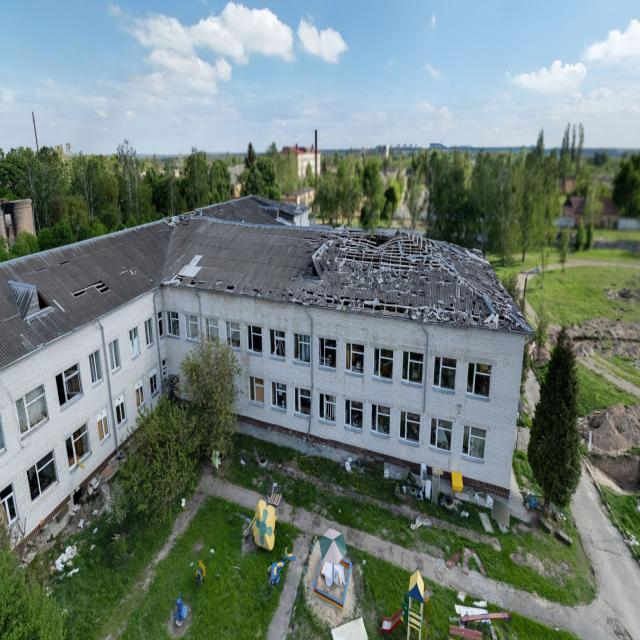broken_window: (26, 446, 60, 503), (65, 420, 95, 477), (56, 360, 82, 407), (0, 483, 20, 528), (467, 364, 492, 396), (462, 426, 486, 459), (434, 356, 456, 389), (431, 419, 453, 450), (399, 411, 420, 443), (403, 352, 424, 382), (89, 344, 105, 382), (373, 349, 393, 379), (371, 406, 391, 434), (346, 344, 365, 373), (344, 401, 363, 429), (319, 394, 336, 423), (319, 339, 336, 368), (269, 330, 286, 358), (294, 332, 309, 363), (271, 382, 287, 410), (295, 388, 310, 415), (247, 325, 262, 352), (97, 414, 110, 445), (250, 378, 265, 403), (134, 382, 145, 411), (115, 402, 127, 427), (149, 369, 159, 396), (168, 312, 179, 335), (158, 313, 163, 336), (163, 360, 167, 385)
building: (0, 190, 533, 579)
damage: (57, 285, 453, 492)
damaged_roof: (291, 228, 530, 331), (213, 204, 248, 292), (169, 251, 203, 288), (71, 277, 113, 301), (163, 210, 203, 230), (238, 284, 264, 296), (119, 264, 138, 278), (282, 268, 295, 286), (279, 286, 297, 297), (36, 264, 49, 274), (59, 259, 71, 267), (225, 284, 235, 292), (266, 289, 273, 295), (199, 279, 205, 285)
other: (30, 4, 640, 640), (0, 335, 640, 640), (180, 338, 238, 421)
roof: (0, 196, 532, 371)
